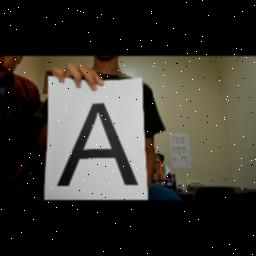a: (56, 99, 140, 191)
